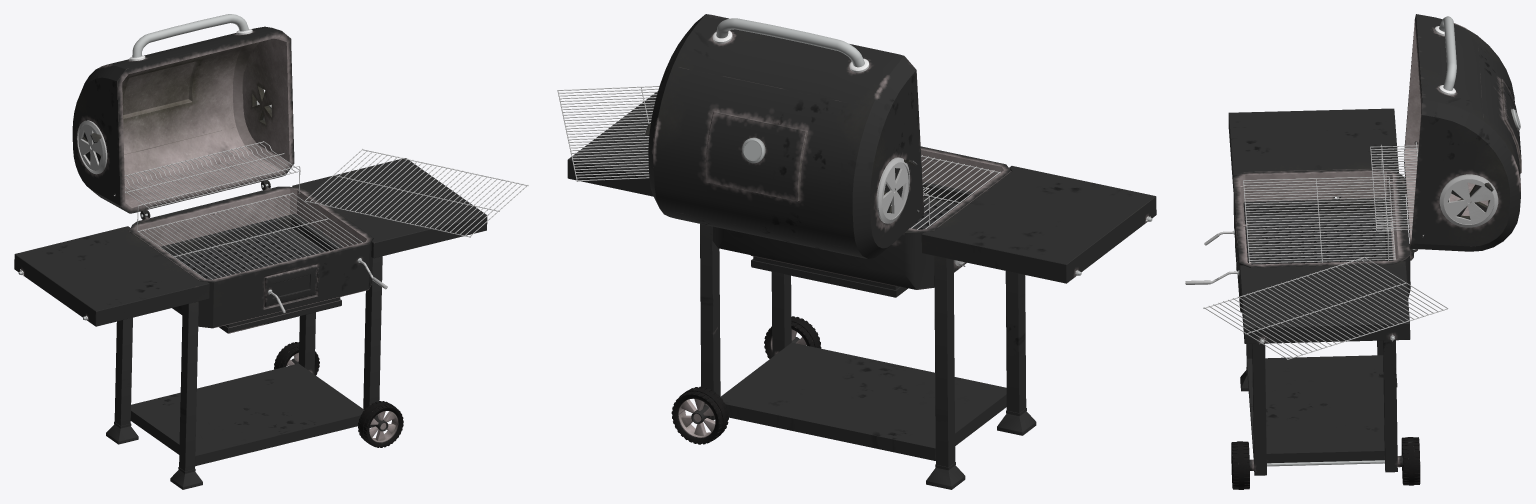
The model's file is barbecue_2.glb.
3 renders of one model, left to right at view 1: azimuth 30°, elevation 25°; view 2: azimuth 150°, elevation 25°; view 3: azimuth 270°, elevation 25°, orthographic. The views are drawn at different scales.
Parts seen in each view (by area): view 1: Barbecue; view 2: Barbecue; view 3: Barbecue.
Part boxes in pixels (bbox=[...]): Barbecue: bbox=[14, 14, 528, 489]; Barbecue: bbox=[557, 14, 1156, 489]; Barbecue: bbox=[1185, 14, 1521, 489].
Bounding box in the file's own units: 2.42 × 1.84 × 1.41.
Materials: 1 (1 with a texture image).
